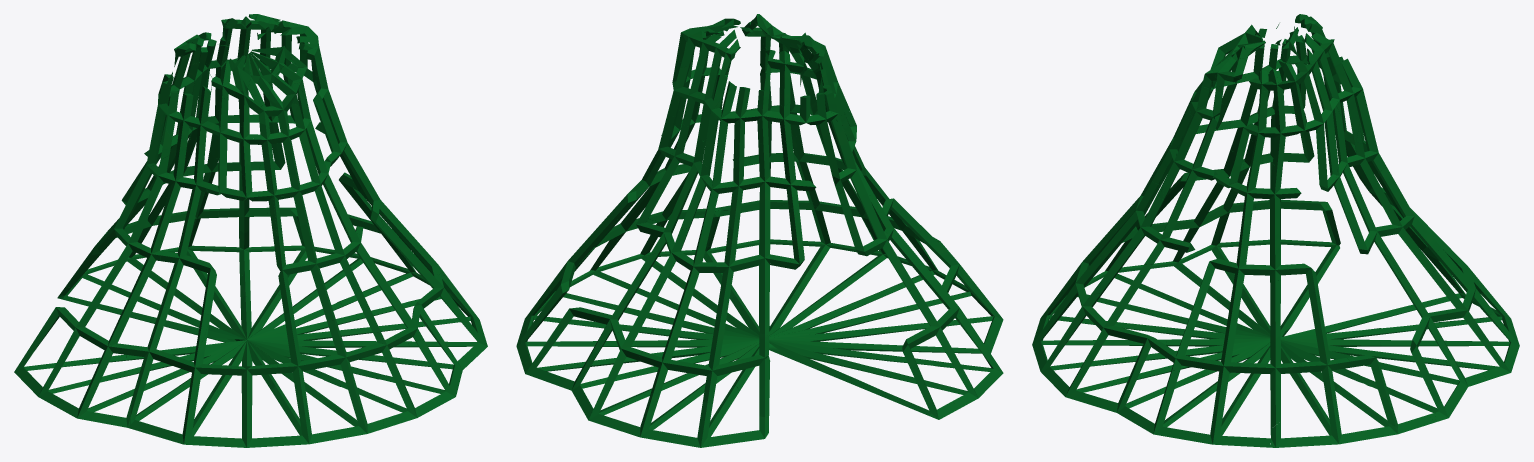
File: volcano_scissors_cells.fbx
3 views of the same model, side by side, from view 1: azimuth 30°, elevation 25°; view 2: azimuth 150°, elevation 25°; view 3: azimuth 270°, elevation 25° (orthographic). The views are drawn at different scales.
Visible parts, largest first — view 1: VolcanoPhase03.001_cell.050, VolcanoPhase03.001_cell.031, VolcanoPhase03.001_cell.086, VolcanoPhase03.001_cell.049, VolcanoPhase03.001_cell.027, VolcanoPhase03.001_cell.034, VolcanoPhase03.001_cell.003, VolcanoPhase03.001_cell.066, VolcanoPhase03.001_cell.067, VolcanoPhase03.001_cell.065, VolcanoPhase03.001_cell.097, VolcanoPhase03.001_cell.028 (+36 smaller); view 2: VolcanoPhase03.001_cell.049, VolcanoPhase03.001_cell.031, VolcanoPhase03.001_cell.091, VolcanoPhase03.001_cell.085, VolcanoPhase03.001_cell.062, VolcanoPhase03.001_cell.079, VolcanoPhase03.001_cell.050, VolcanoPhase03.001_cell.065, VolcanoPhase03.001_cell.086, VolcanoPhase03.001_cell.034, VolcanoPhase03.001_cell.003, VolcanoPhase03.001_cell.053 (+39 smaller); view 3: VolcanoPhase03.001_cell.049, VolcanoPhase03.001_cell.031, VolcanoPhase03.001_cell.004, VolcanoPhase03.001_cell.074, VolcanoPhase03.001_cell.050, VolcanoPhase03.001_cell.066, VolcanoPhase03.001_cell.086, VolcanoPhase03.001_cell.034, VolcanoPhase03.001_cell.024, VolcanoPhase03.001_cell.091, VolcanoPhase03.001_cell.115, VolcanoPhase03.001_cell.032 (+34 smaller).
Part boxes in pixels (<box>): VolcanoPhase03.001_cell.050: <box>271,313,384,445</box>; VolcanoPhase03.001_cell.031: <box>191,294,372,379</box>; VolcanoPhase03.001_cell.086: <box>273,221,380,332</box>; VolcanoPhase03.001_cell.049: <box>124,309,294,395</box>; VolcanoPhase03.001_cell.027: <box>174,323,285,447</box>; VolcanoPhase03.001_cell.034: <box>339,336,462,428</box>; VolcanoPhase03.001_cell.003: <box>130,307,210,441</box>; VolcanoPhase03.001_cell.066: <box>372,225,453,356</box>; VolcanoPhase03.001_cell.067: <box>141,143,210,225</box>; VolcanoPhase03.001_cell.065: <box>26,289,137,406</box>; VolcanoPhase03.001_cell.097: <box>57,344,132,428</box>; VolcanoPhase03.001_cell.028: <box>160,223,216,315</box>; VolcanoPhase03.001_cell.049: <box>731,300,889,400</box>; VolcanoPhase03.001_cell.031: <box>634,295,798,383</box>; VolcanoPhase03.001_cell.091: <box>639,308,769,418</box>; VolcanoPhase03.001_cell.085: <box>678,206,772,336</box>; VolcanoPhase03.001_cell.062: <box>612,393,768,447</box>; VolcanoPhase03.001_cell.079: <box>701,157,792,267</box>; VolcanoPhase03.001_cell.050: <box>813,189,946,311</box>; VolcanoPhase03.001_cell.065: <box>875,287,990,408</box>; VolcanoPhase03.001_cell.086: <box>748,134,883,201</box>; VolcanoPhase03.001_cell.034: <box>705,200,856,287</box>; VolcanoPhase03.001_cell.003: <box>887,228,1001,353</box>; VolcanoPhase03.001_cell.053: <box>758,137,816,215</box>; VolcanoPhase03.001_cell.049: <box>1166,288,1388,346</box>; VolcanoPhase03.001_cell.031: <box>1175,338,1381,398</box>; VolcanoPhase03.001_cell.004: <box>1204,161,1295,289</box>; VolcanoPhase03.001_cell.074: <box>1203,280,1301,428</box>; VolcanoPhase03.001_cell.050: <box>1032,225,1167,353</box>; VolcanoPhase03.001_cell.066: <box>1092,264,1211,398</box>; VolcanoPhase03.001_cell.086: <box>1090,169,1178,296</box>; VolcanoPhase03.001_cell.034: <box>1035,298,1140,413</box>; VolcanoPhase03.001_cell.024: <box>1270,400,1403,447</box>; VolcanoPhase03.001_cell.091: <box>1410,233,1493,316</box>; VolcanoPhase03.001_cell.115: <box>1183,377,1270,447</box>; VolcanoPhase03.001_cell.032: <box>1335,354,1434,432</box>.
Size of the model in its own units: 1425 by 1057 by 1425.
